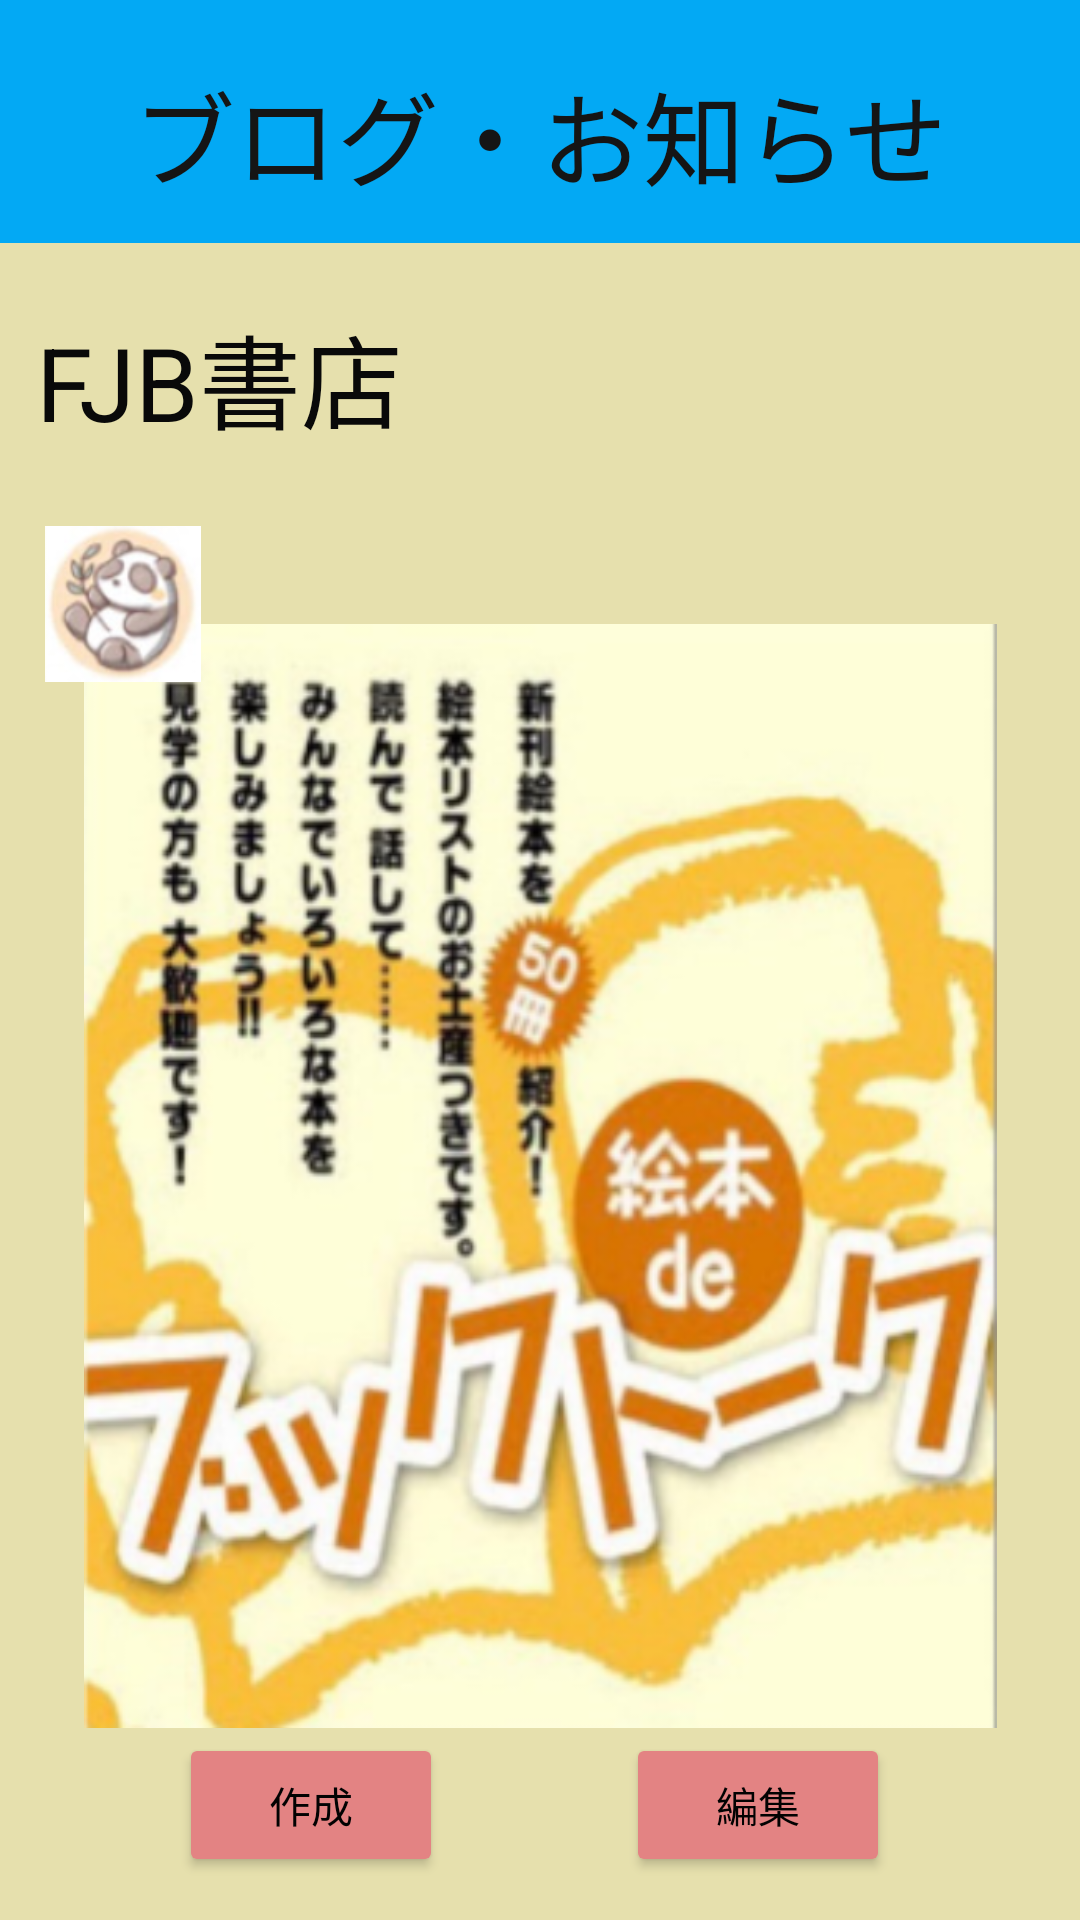

Icon bounding boxes for this 1080*1920 phone screenshot, format (x1, y1, x2, y2):
kuma: (45, 526, 205, 682)
